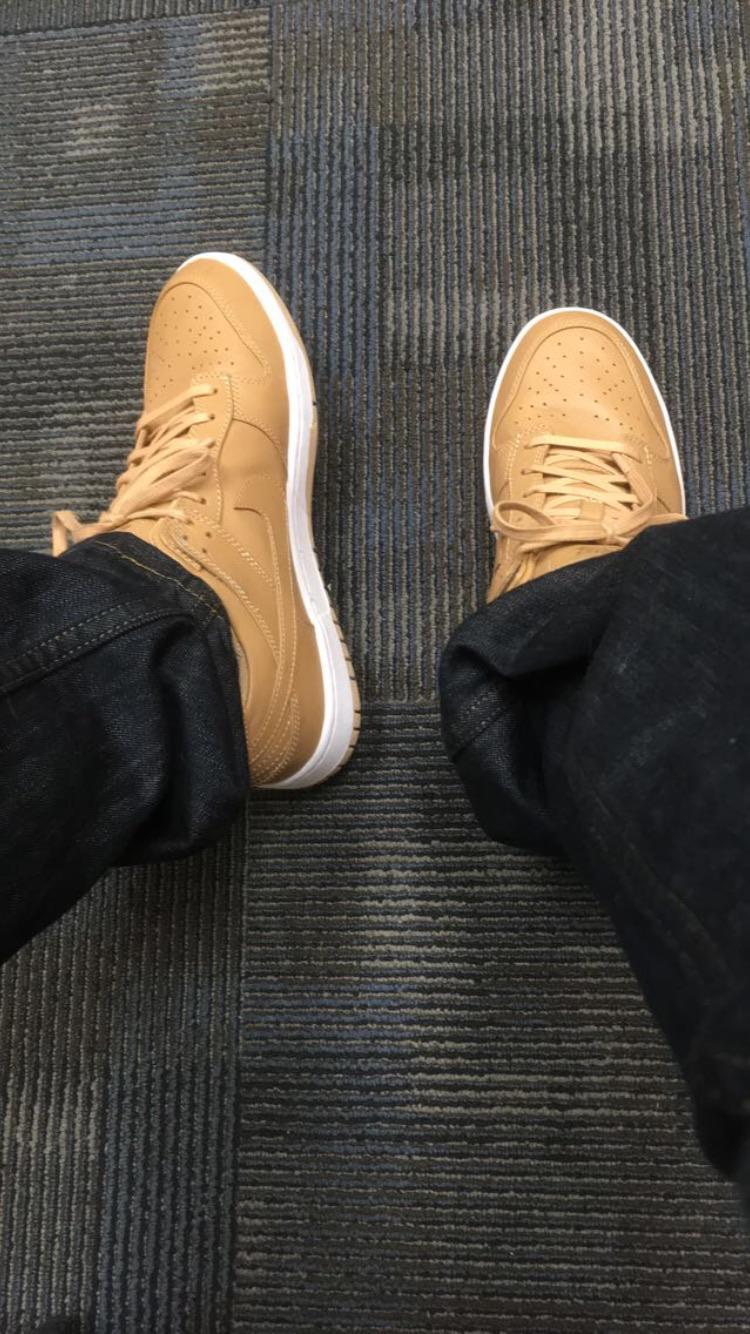sneaker: (56, 230, 367, 799), (467, 277, 733, 861)
